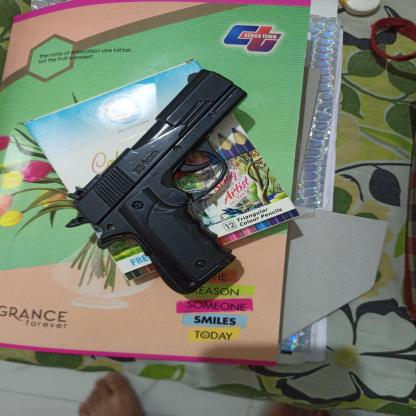handgun: (66, 68, 250, 298)
